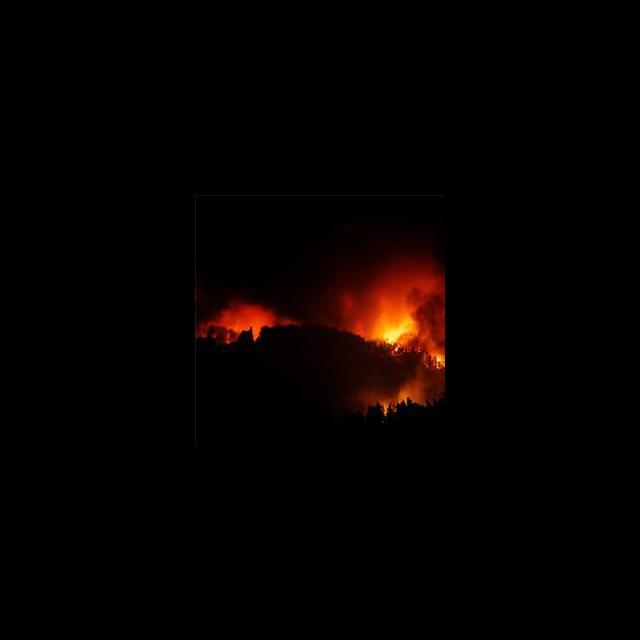Fire: (380, 319, 412, 353), (431, 350, 445, 372)
